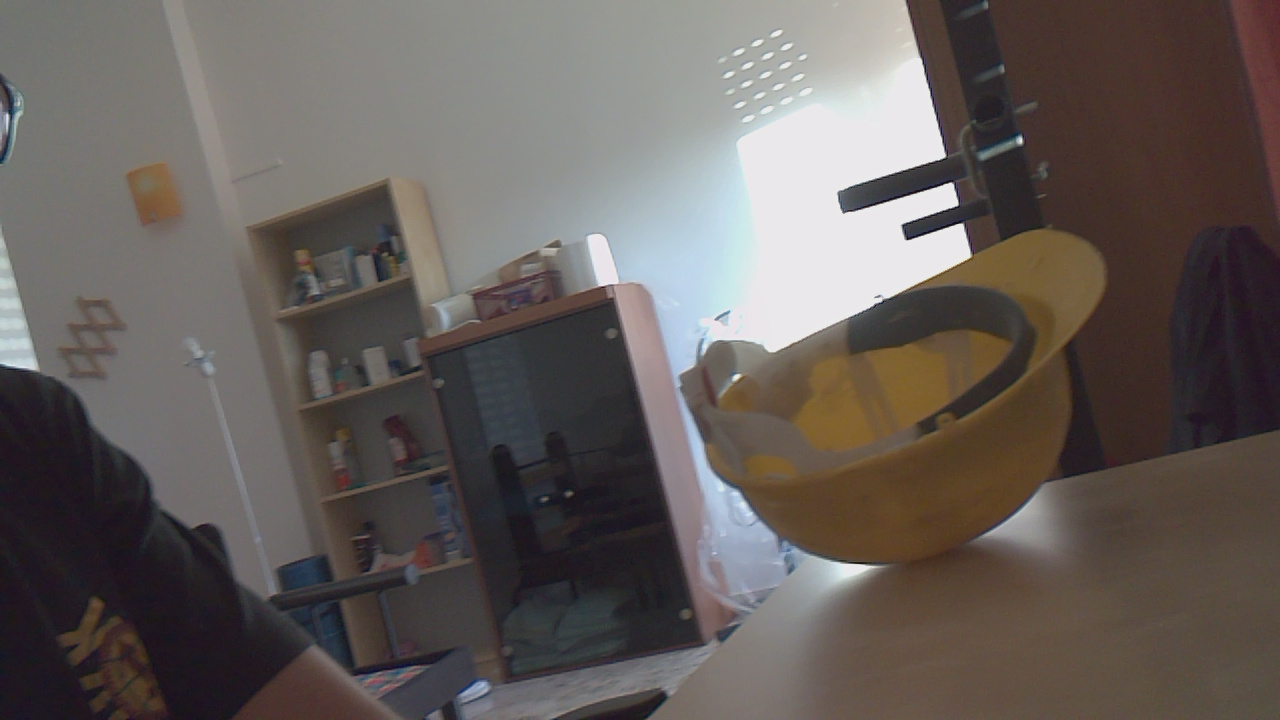Helmet: (684, 231, 1109, 590)
